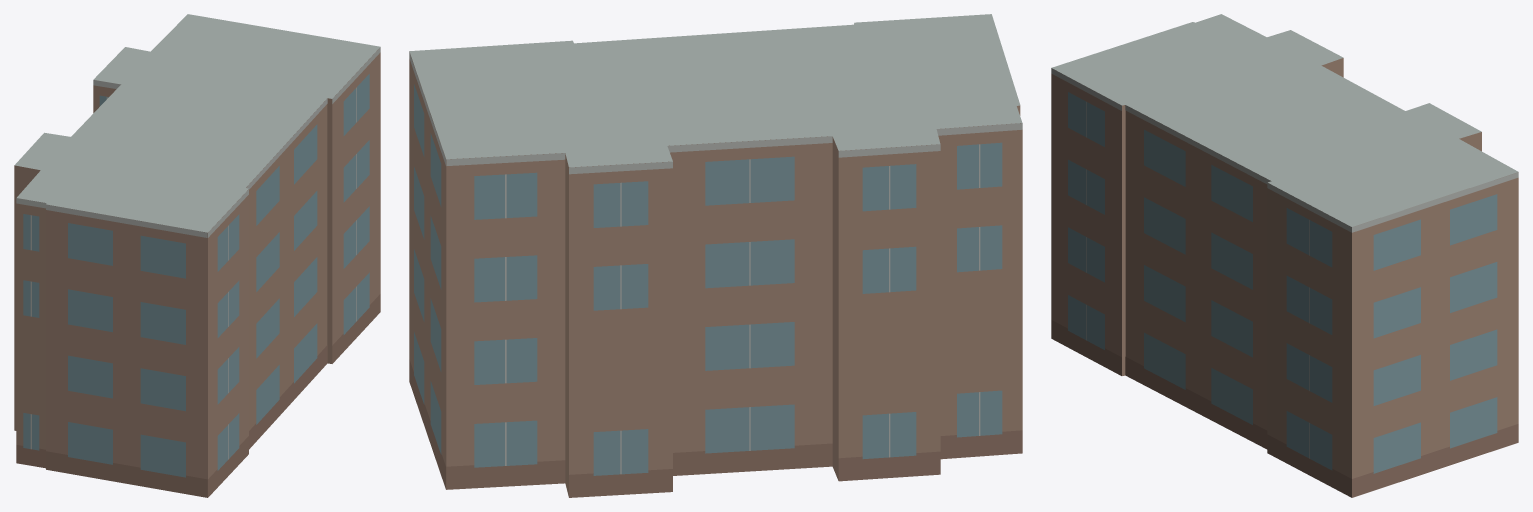
The model's file is survey-upis-32790464.glb.
3 views of the same model, side by side, from view 1: azimuth 30°, elevation 25°; view 2: azimuth 150°, elevation 25°; view 3: azimuth 270°, elevation 25° (orthographic). The views are drawn at different scales.
Parts seen in each view (by area): view 1: survey-upis-32790464.tmp; view 2: survey-upis-32790464.tmp; view 3: survey-upis-32790464.tmp.
Part boxes in pixels (box(x1,y1,x2,y2)): survey-upis-32790464.tmp: box(14, 14, 380, 497); survey-upis-32790464.tmp: box(409, 14, 1022, 497); survey-upis-32790464.tmp: box(1051, 14, 1518, 497).
Bounding box in the file's own units: 19.94 × 11.8 × 18.48.
